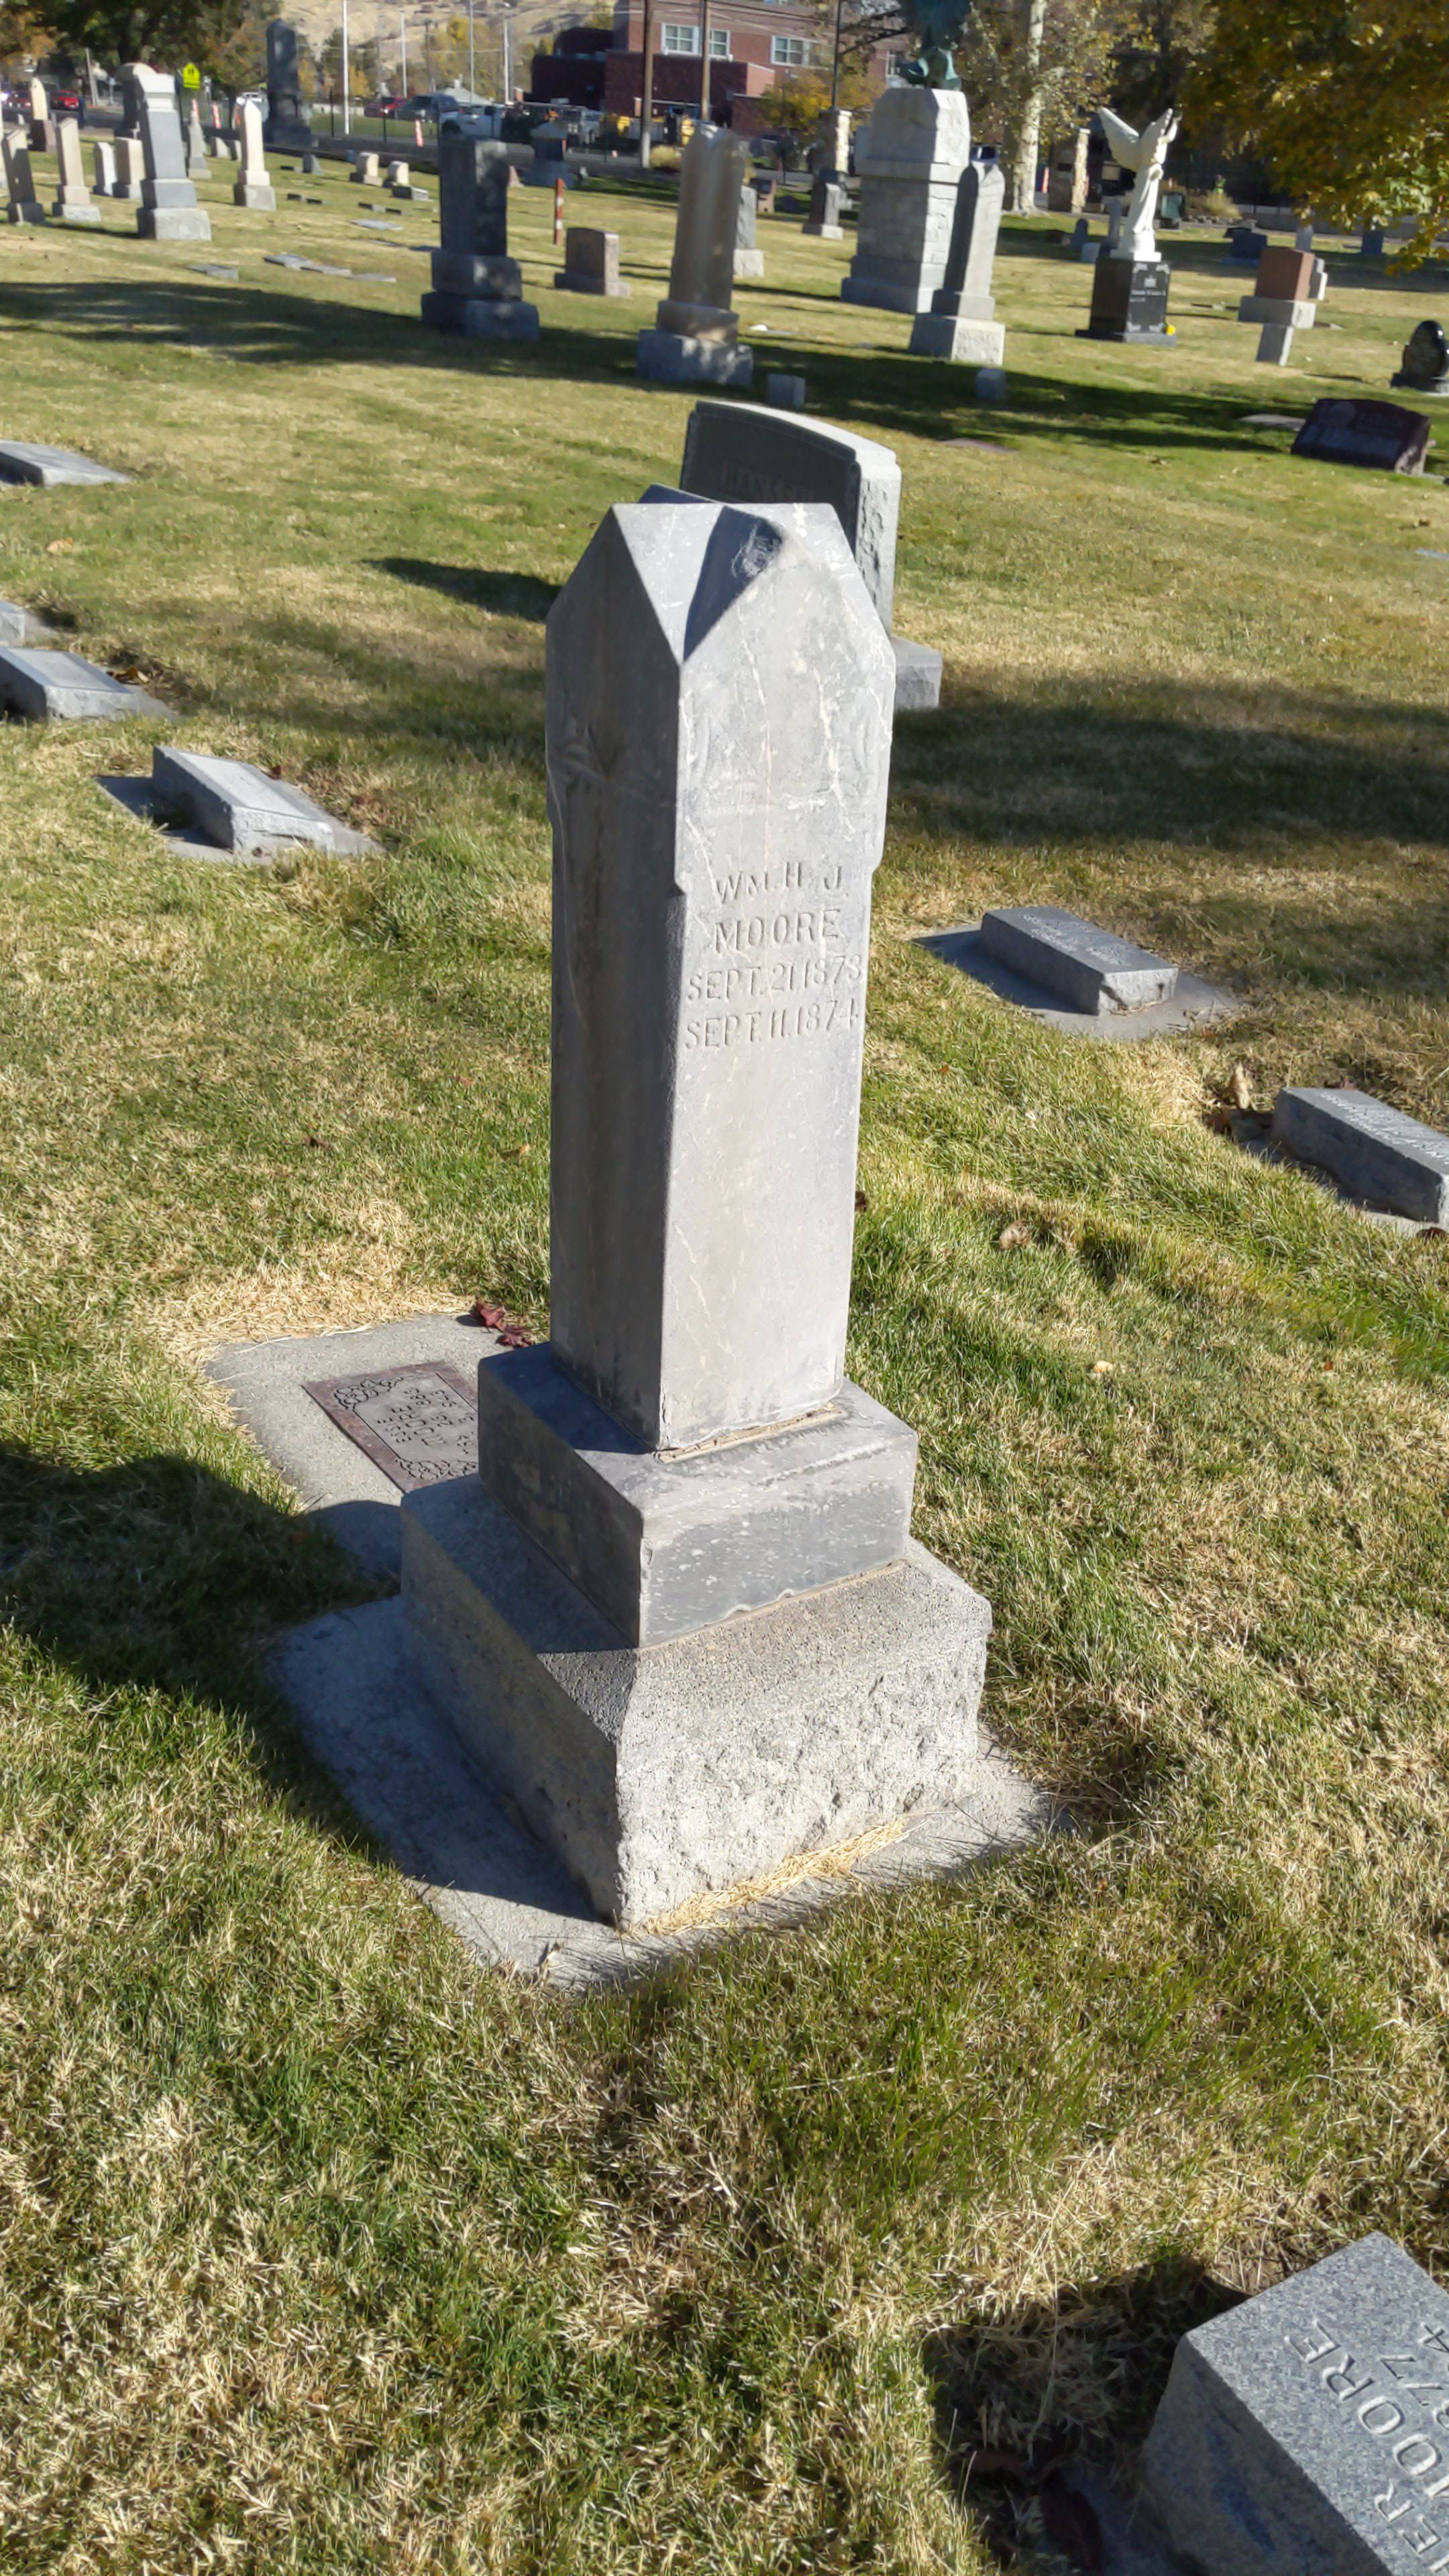obelisk: (478, 495, 911, 1637)
